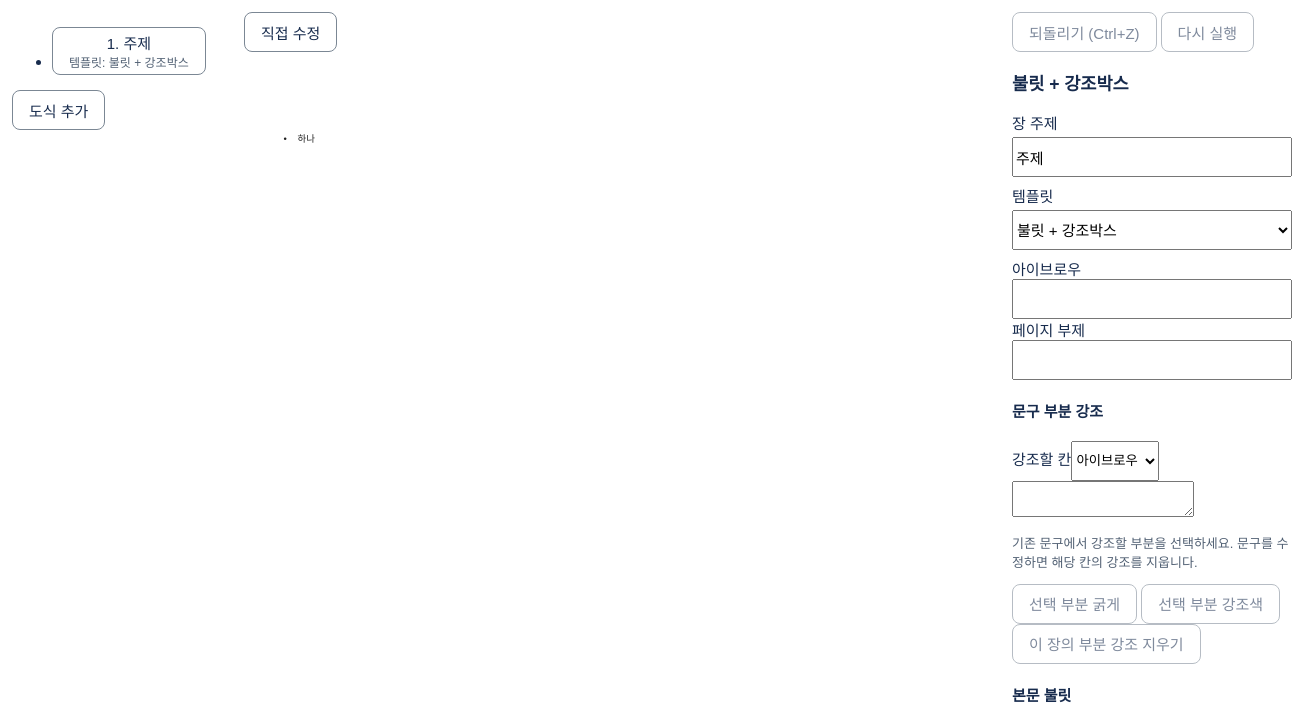
Test: 실측 실패는 저장 성공에 지워지지 않고, '다시 그리기' 로 재실측한다 (FC-02)
This screenshot has width=1304, height=725.
Click the text "하나". click: [306, 139]
box: [298,133,315,144]
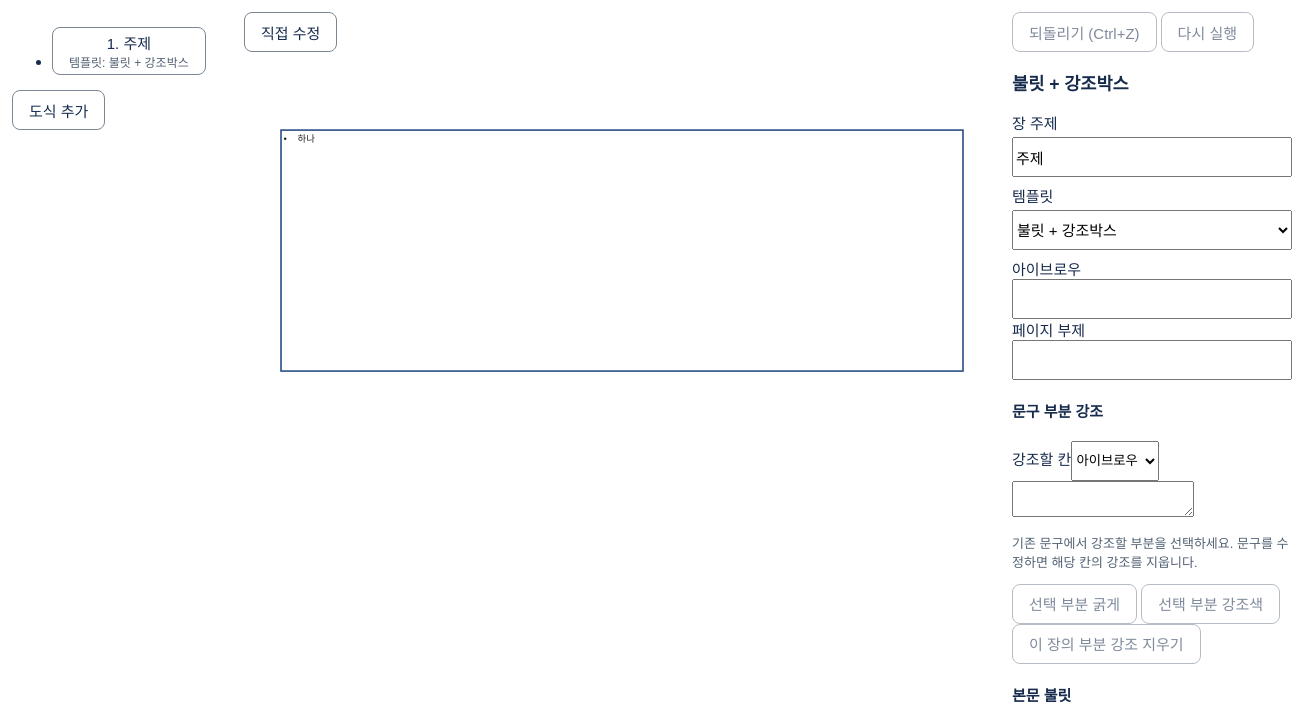
Click the text "하나". click: [306, 139]
box: [298,133,315,144]
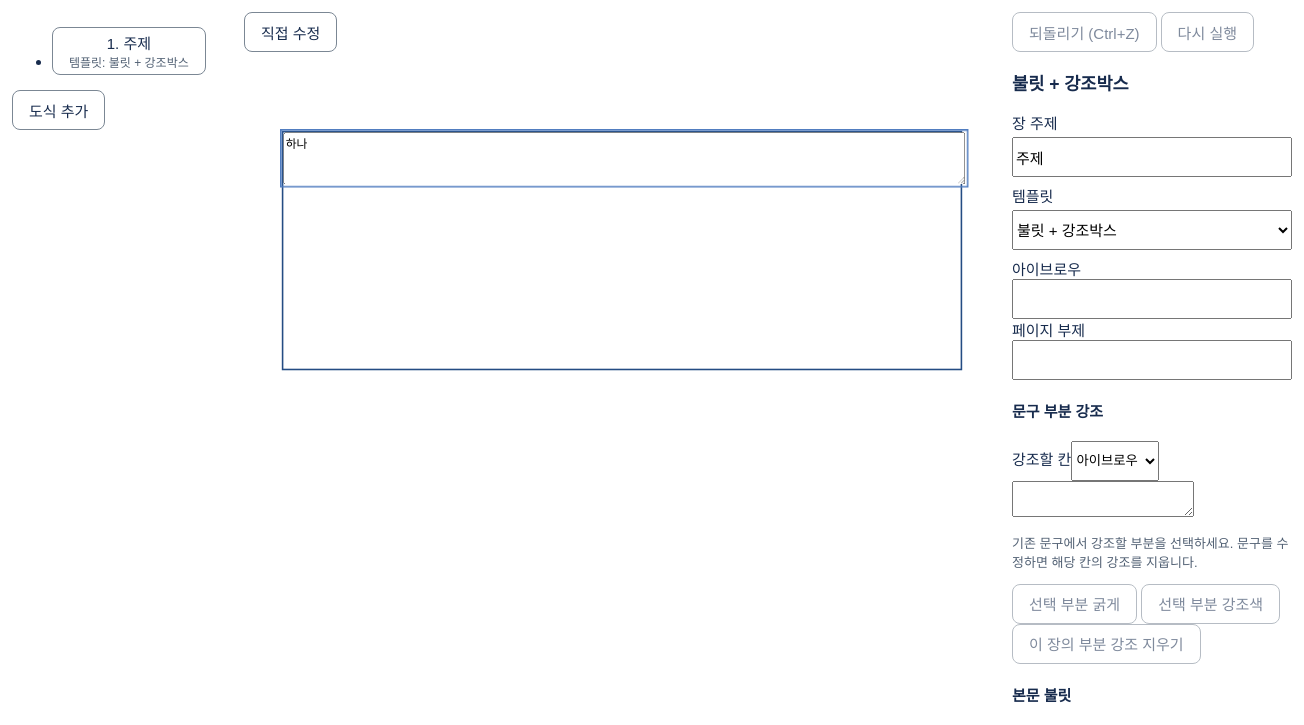
Replace the text in the text box named "내용 수정" with "둘". click: [624, 158]
box: [283,132,965,184]
Then press Enter
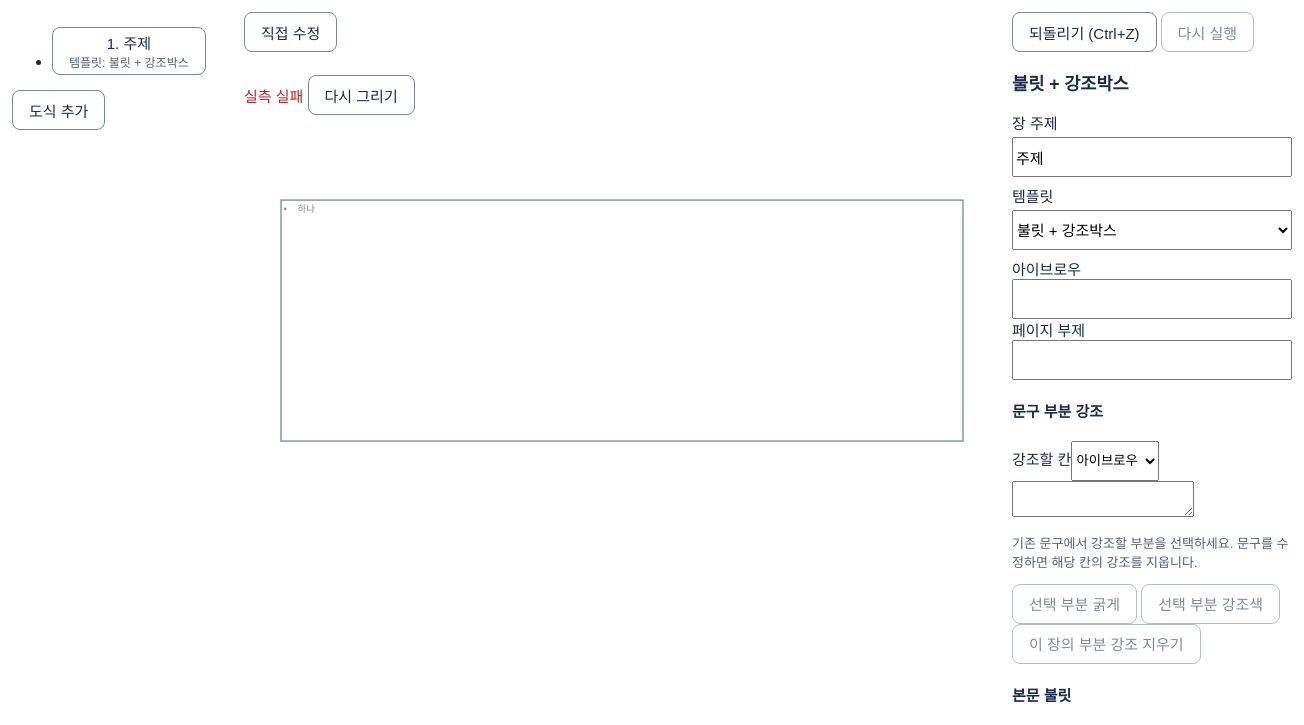
Check: the message shows "실측 실패", box [244,88,303,104]
Click the button "다시 그리기". click: [361, 95]
box: [308,75,415,115]
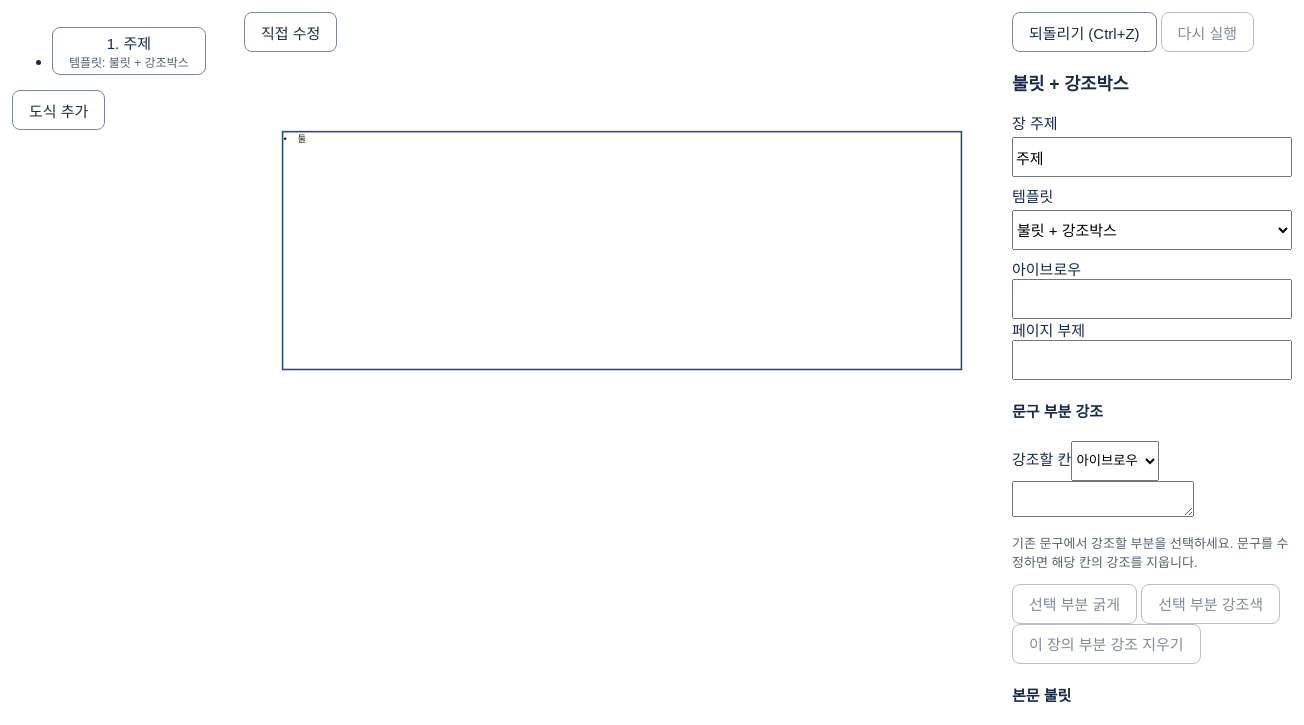
Check: the message "실측 실패 다시 그리기" is gone
Check: the text "둘" is shown, box [298,133,306,144]
